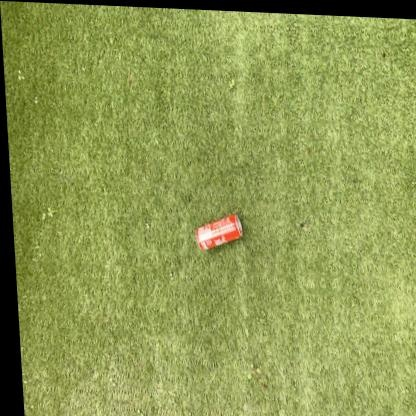trash: (195, 214, 242, 251)
